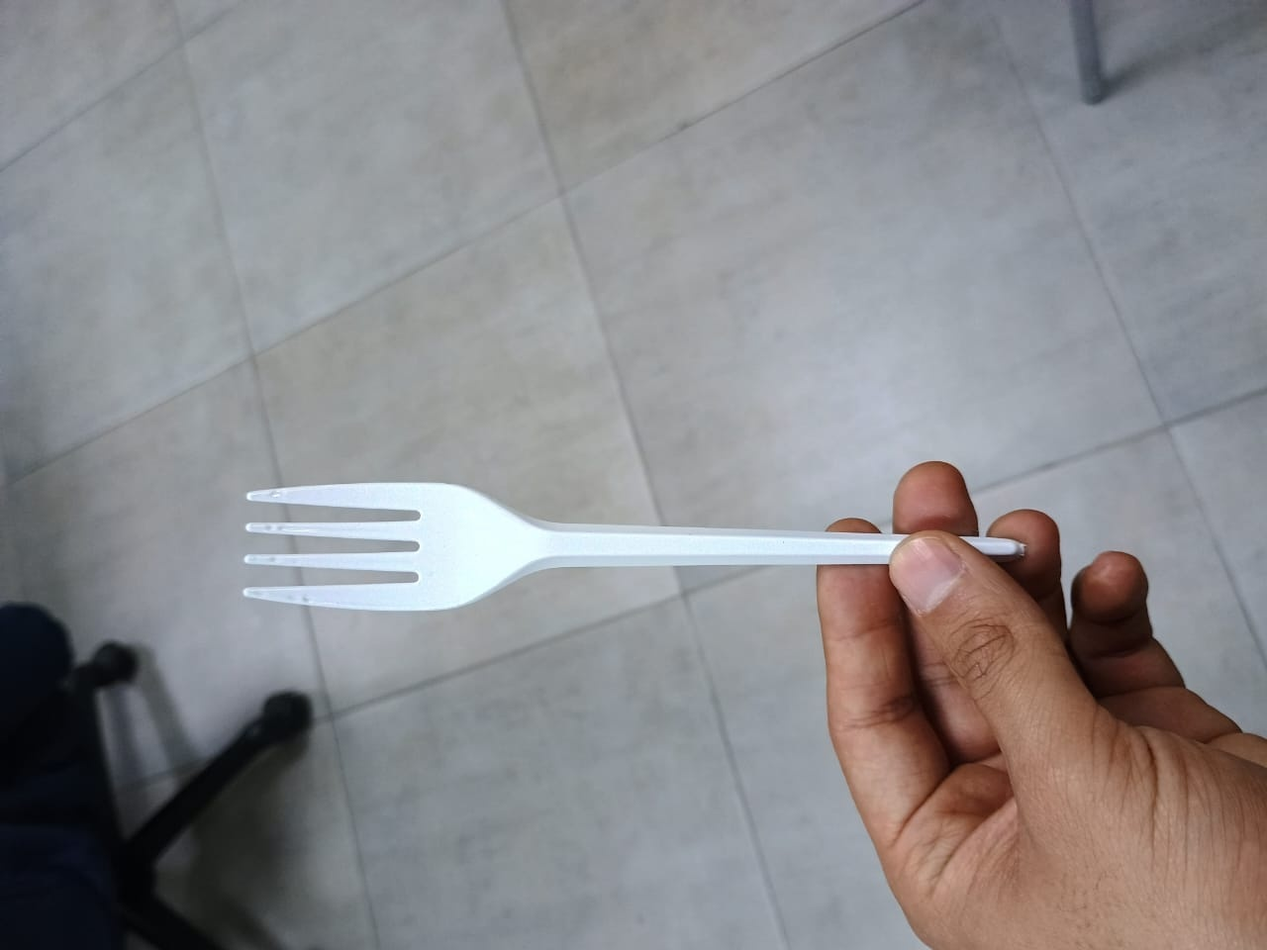Ordinario: (241, 482, 891, 612)
